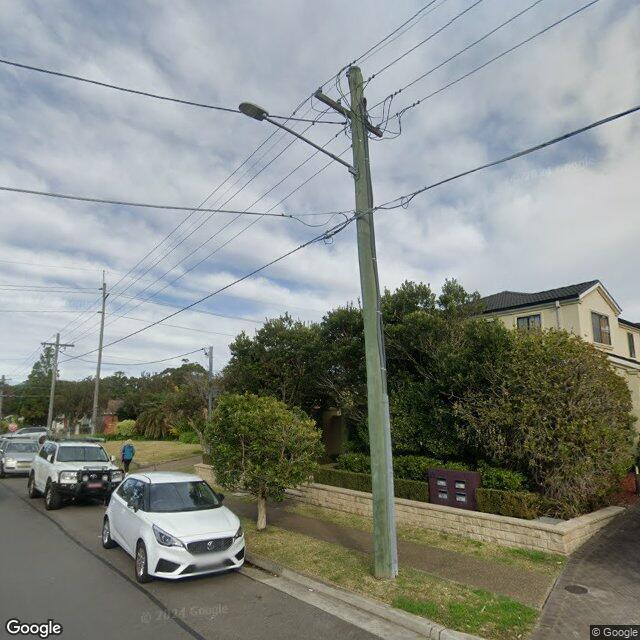HV-transmission: (98, 271, 110, 314)
crossarm: (313, 91, 383, 137), (40, 341, 74, 348), (0, 378, 12, 381)
steel-pole: (208, 346, 213, 412)
streetlight: (238, 101, 360, 178)
timber-pole: (346, 66, 400, 578), (90, 283, 106, 437), (46, 332, 60, 429), (0, 374, 5, 418)
